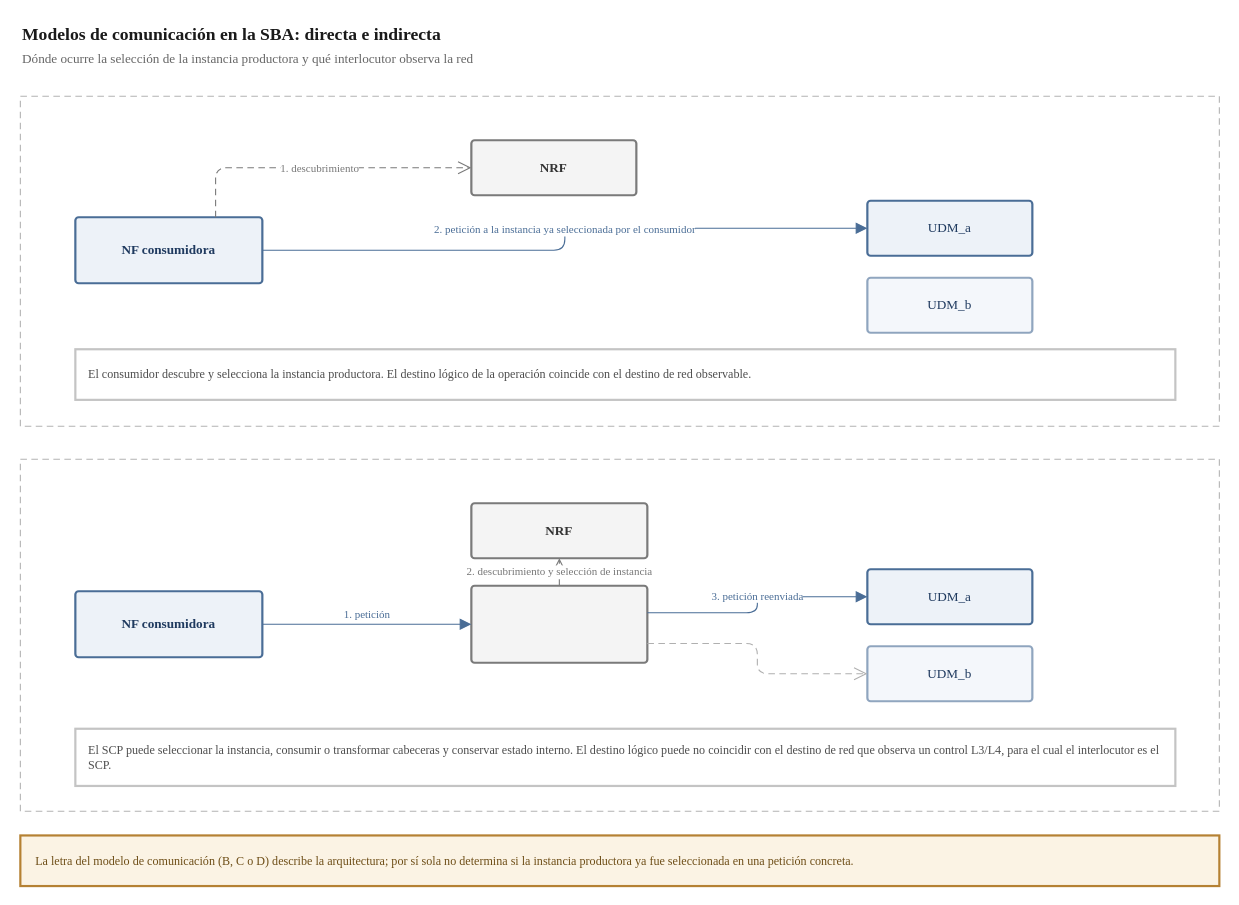
This 1239x905 diagram has some shape labels left out. Here are the shapes that lost their labels. From the top down, the box of each, then its label:
(19, 95, 1219, 426): (a) Comunicación directa
(470, 584, 648, 663): SCP termina la conexión y origina otra
(19, 458, 1219, 811): (b) Comunicación indirecta a través del SCP
